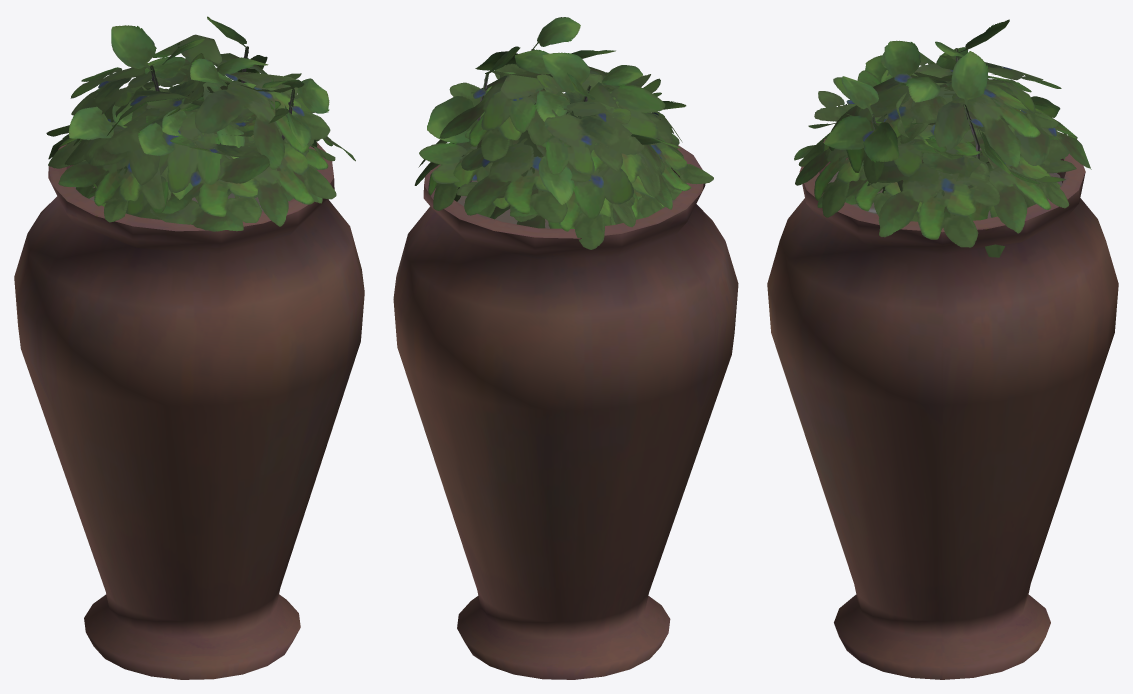
File: Plant_5.glb
3 views of the same model, side by side, from view 1: azimuth 30°, elevation 25°; view 2: azimuth 150°, elevation 25°; view 3: azimuth 270°, elevation 25° (orthographic).
Visible parts, largest first — view 1: Garden_0_PlantPotted_LOD0; view 2: Garden_0_PlantPotted_LOD0; view 3: Garden_0_PlantPotted_LOD0.
Part boxes in pixels (box(x1,y1,x2,y2)): Garden_0_PlantPotted_LOD0: box(14, 16, 364, 679); Garden_0_PlantPotted_LOD0: box(393, 17, 738, 679); Garden_0_PlantPotted_LOD0: box(767, 19, 1118, 679).
Size of the model in its own units: 1.02 by 1.95 by 1.02.
Materials: 1 (1 with a texture image).
